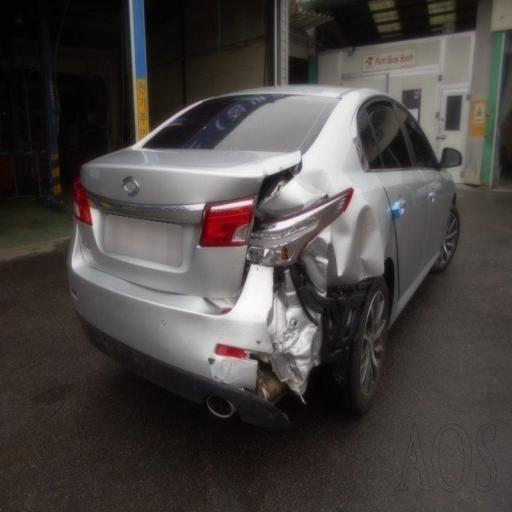broken: (214, 152, 396, 422)
dent: (344, 184, 386, 288)
